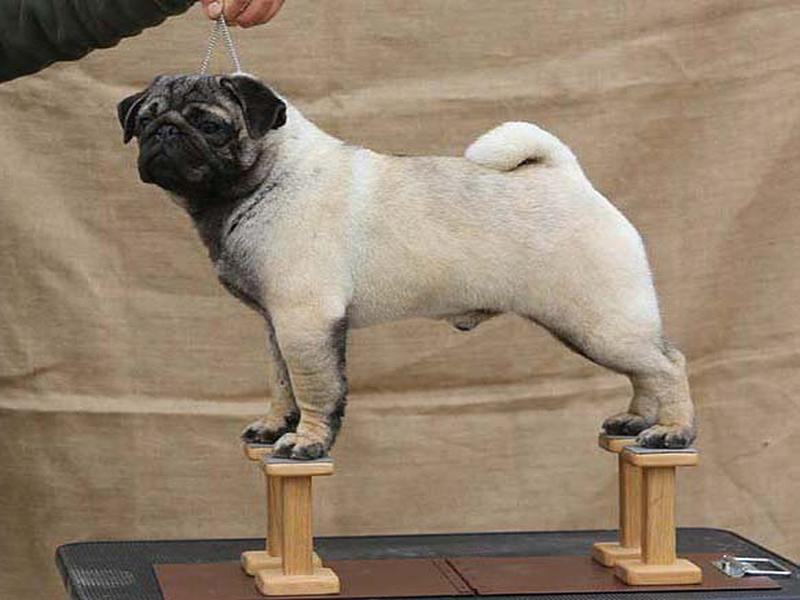dog_stand: (116, 67, 704, 457)
